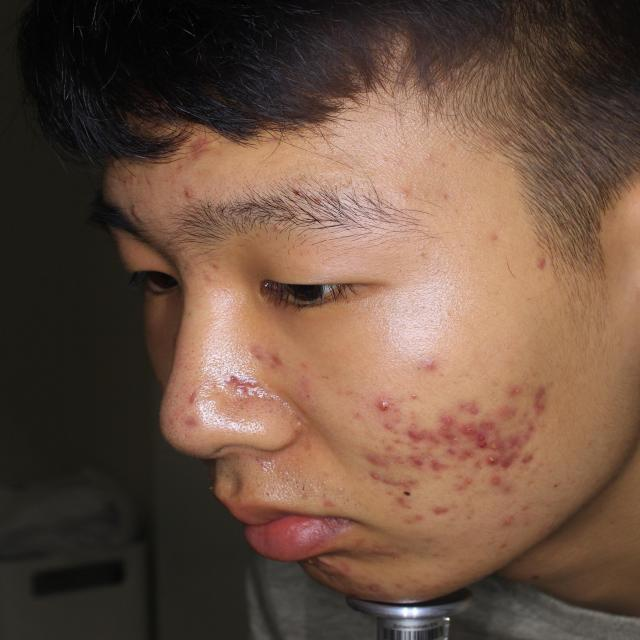papule: (264, 346, 290, 376), (182, 137, 224, 154), (360, 440, 392, 462), (226, 370, 251, 398), (242, 334, 264, 363), (391, 491, 417, 514), (356, 577, 378, 600), (402, 422, 424, 444), (369, 396, 399, 412), (434, 409, 462, 426), (520, 416, 546, 434), (484, 472, 511, 489), (397, 478, 426, 493), (432, 499, 450, 523), (185, 412, 205, 433), (380, 416, 401, 436), (416, 354, 437, 374), (530, 394, 550, 415), (363, 467, 391, 482), (460, 392, 478, 414), (486, 516, 519, 528), (376, 539, 394, 560), (483, 412, 500, 433), (472, 432, 491, 450), (426, 456, 445, 474), (404, 452, 424, 469), (460, 474, 482, 489), (184, 180, 198, 202), (508, 428, 524, 447), (334, 559, 348, 580), (453, 444, 470, 461), (481, 454, 500, 469), (528, 381, 549, 394), (500, 452, 516, 468), (440, 427, 457, 442), (526, 448, 540, 465), (459, 421, 473, 437), (503, 384, 519, 396), (183, 390, 201, 400), (502, 405, 516, 417), (426, 429, 435, 446)
